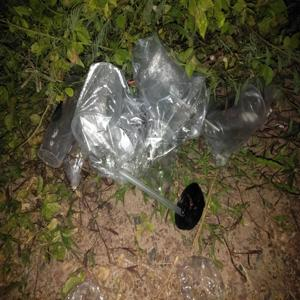plastic: (82, 63, 164, 182), (140, 37, 207, 145), (29, 79, 85, 183), (113, 162, 188, 219), (205, 94, 277, 153), (165, 178, 221, 239)
